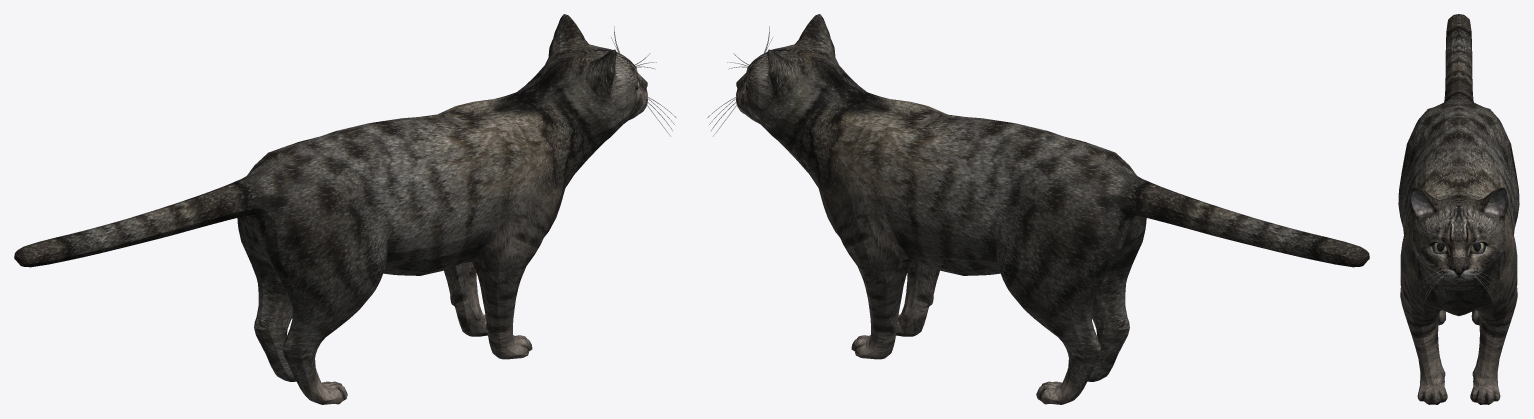
Rendered from cat.obj.
The picture shows the model from 3 angles, left to right: view 1: azimuth 30°, elevation 25°; view 2: azimuth 150°, elevation 25°; view 3: azimuth 270°, elevation 25°; orthographic projection. The views are drawn at different scales.
Visible parts, largest first — view 1: Mesh1 Component1 skpBFA7_1 ___2_1 Model; view 2: Mesh1 Component1 skpBFA7_1 ___2_1 Model; view 3: Mesh1 Component1 skpBFA7_1 ___2_1 Model.
Boxes of the visible parts, x1,y1,x2,y2 form: Mesh1 Component1 skpBFA7_1 ___2_1 Model: (14, 14, 647, 404); Mesh1 Component1 skpBFA7_1 ___2_1 Model: (736, 14, 1369, 404); Mesh1 Component1 skpBFA7_1 ___2_1 Model: (1398, 14, 1519, 404).
Size of the model in its own units: 3.52 by 1.52 by 0.6607.
1 material, 1 textured.
